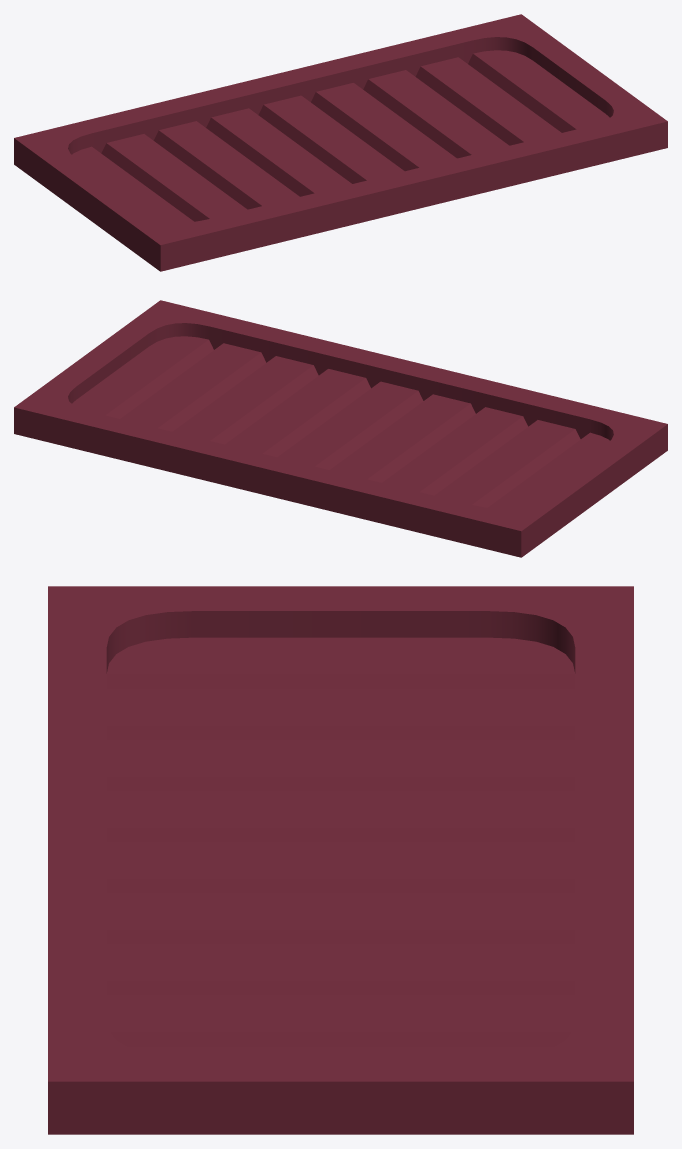
File: Floor_B_2x1m_B.FBX
3 views of the same model, one above another, from view 1: azimuth 30°, elevation 25°; view 2: azimuth 150°, elevation 25°; view 3: azimuth 270°, elevation 25° (orthographic). The views are drawn at different scales.
Parts seen in each view (by area): view 1: Floor_B_2x1m_B; view 2: Floor_B_2x1m_B; view 3: Floor_B_2x1m_B.
Part boxes in pixels (bbox=[...]): Floor_B_2x1m_B: bbox=[14, 14, 667, 271]; Floor_B_2x1m_B: bbox=[14, 300, 667, 557]; Floor_B_2x1m_B: bbox=[48, 586, 633, 1134].
Bounding box in the file's own units: 200 × 10 × 100.
